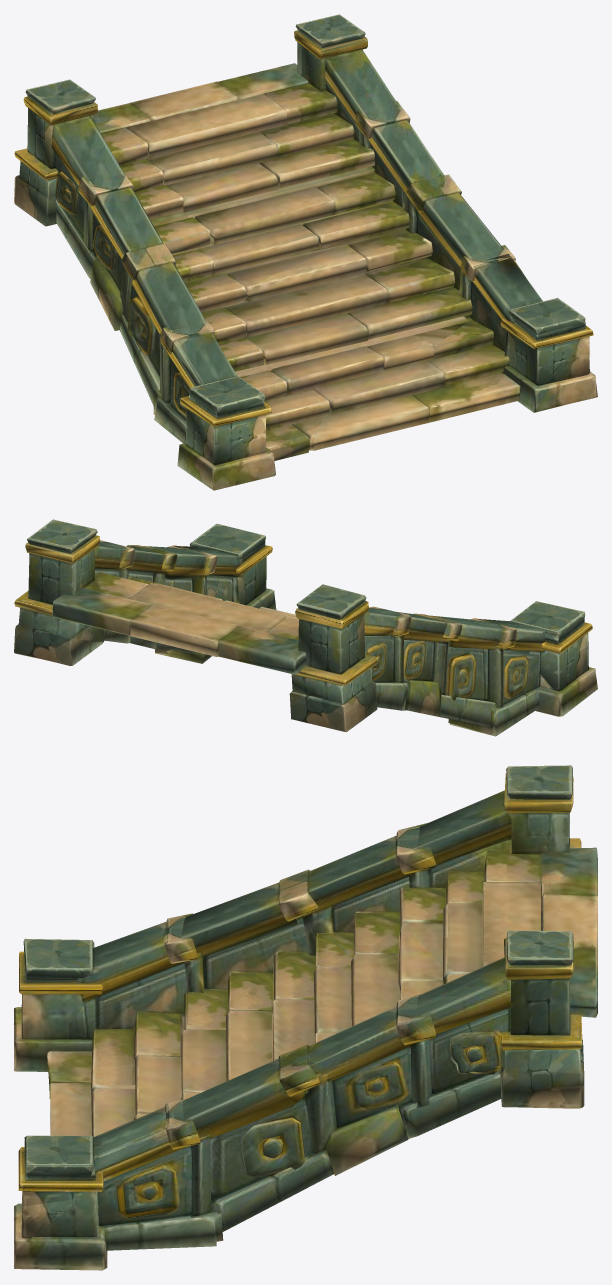
File: kit-cc-temple-stair.glb
The picture shows the model from 3 angles, top to bottom: view 1: azimuth 30°, elevation 25°; view 2: azimuth 150°, elevation 25°; view 3: azimuth 270°, elevation 25°; orthographic projection. The views are drawn at different scales.
Visible parts, largest first — view 1: kit-cc-temple-stair; view 2: kit-cc-temple-stair; view 3: kit-cc-temple-stair.
Boxes of the visible parts, bbox=[...] form: kit-cc-temple-stair: bbox=[14, 14, 597, 490]; kit-cc-temple-stair: bbox=[14, 519, 597, 736]; kit-cc-temple-stair: bbox=[14, 765, 597, 1270].
Bounding box in the file's own units: 6.97 × 4 × 7.27.
1 material, 1 textured.
